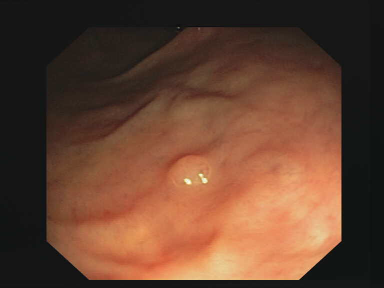polyp: (153, 143, 230, 194)
